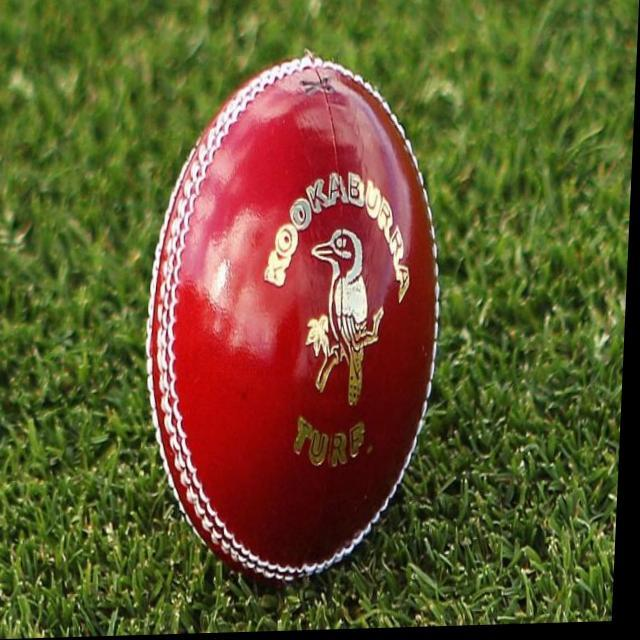cricket ball: (149, 57, 444, 584)
